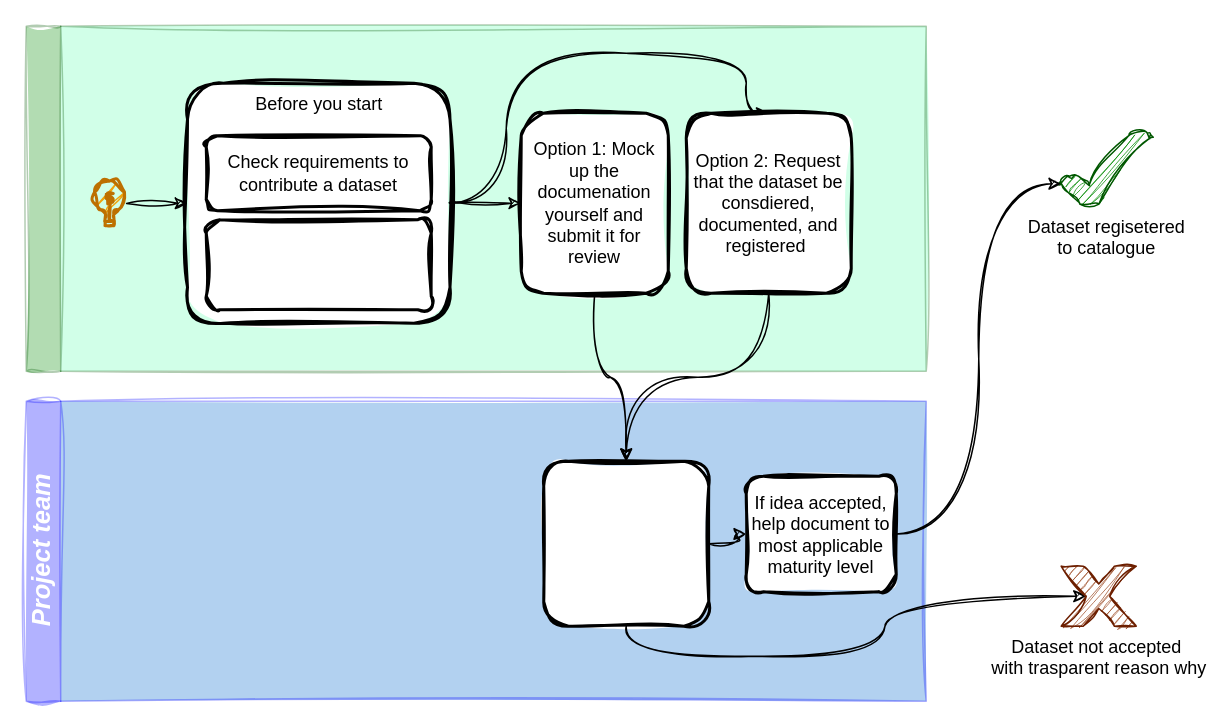
Image size: 1232x728. Some labels were removed from this diagram. Here are the shapes that lost their labels. From the top down, the box of each, then its label:
(90, 179, 127, 226): Idea for a dataset!
(25, 25, 926, 371): Idea contributor
(204, 218, 432, 310): Check if the dataset saved anywhere that is at least machine readable?
(542, 459, 710, 627): Group assesses the proposed dataset against catalogue requirments
